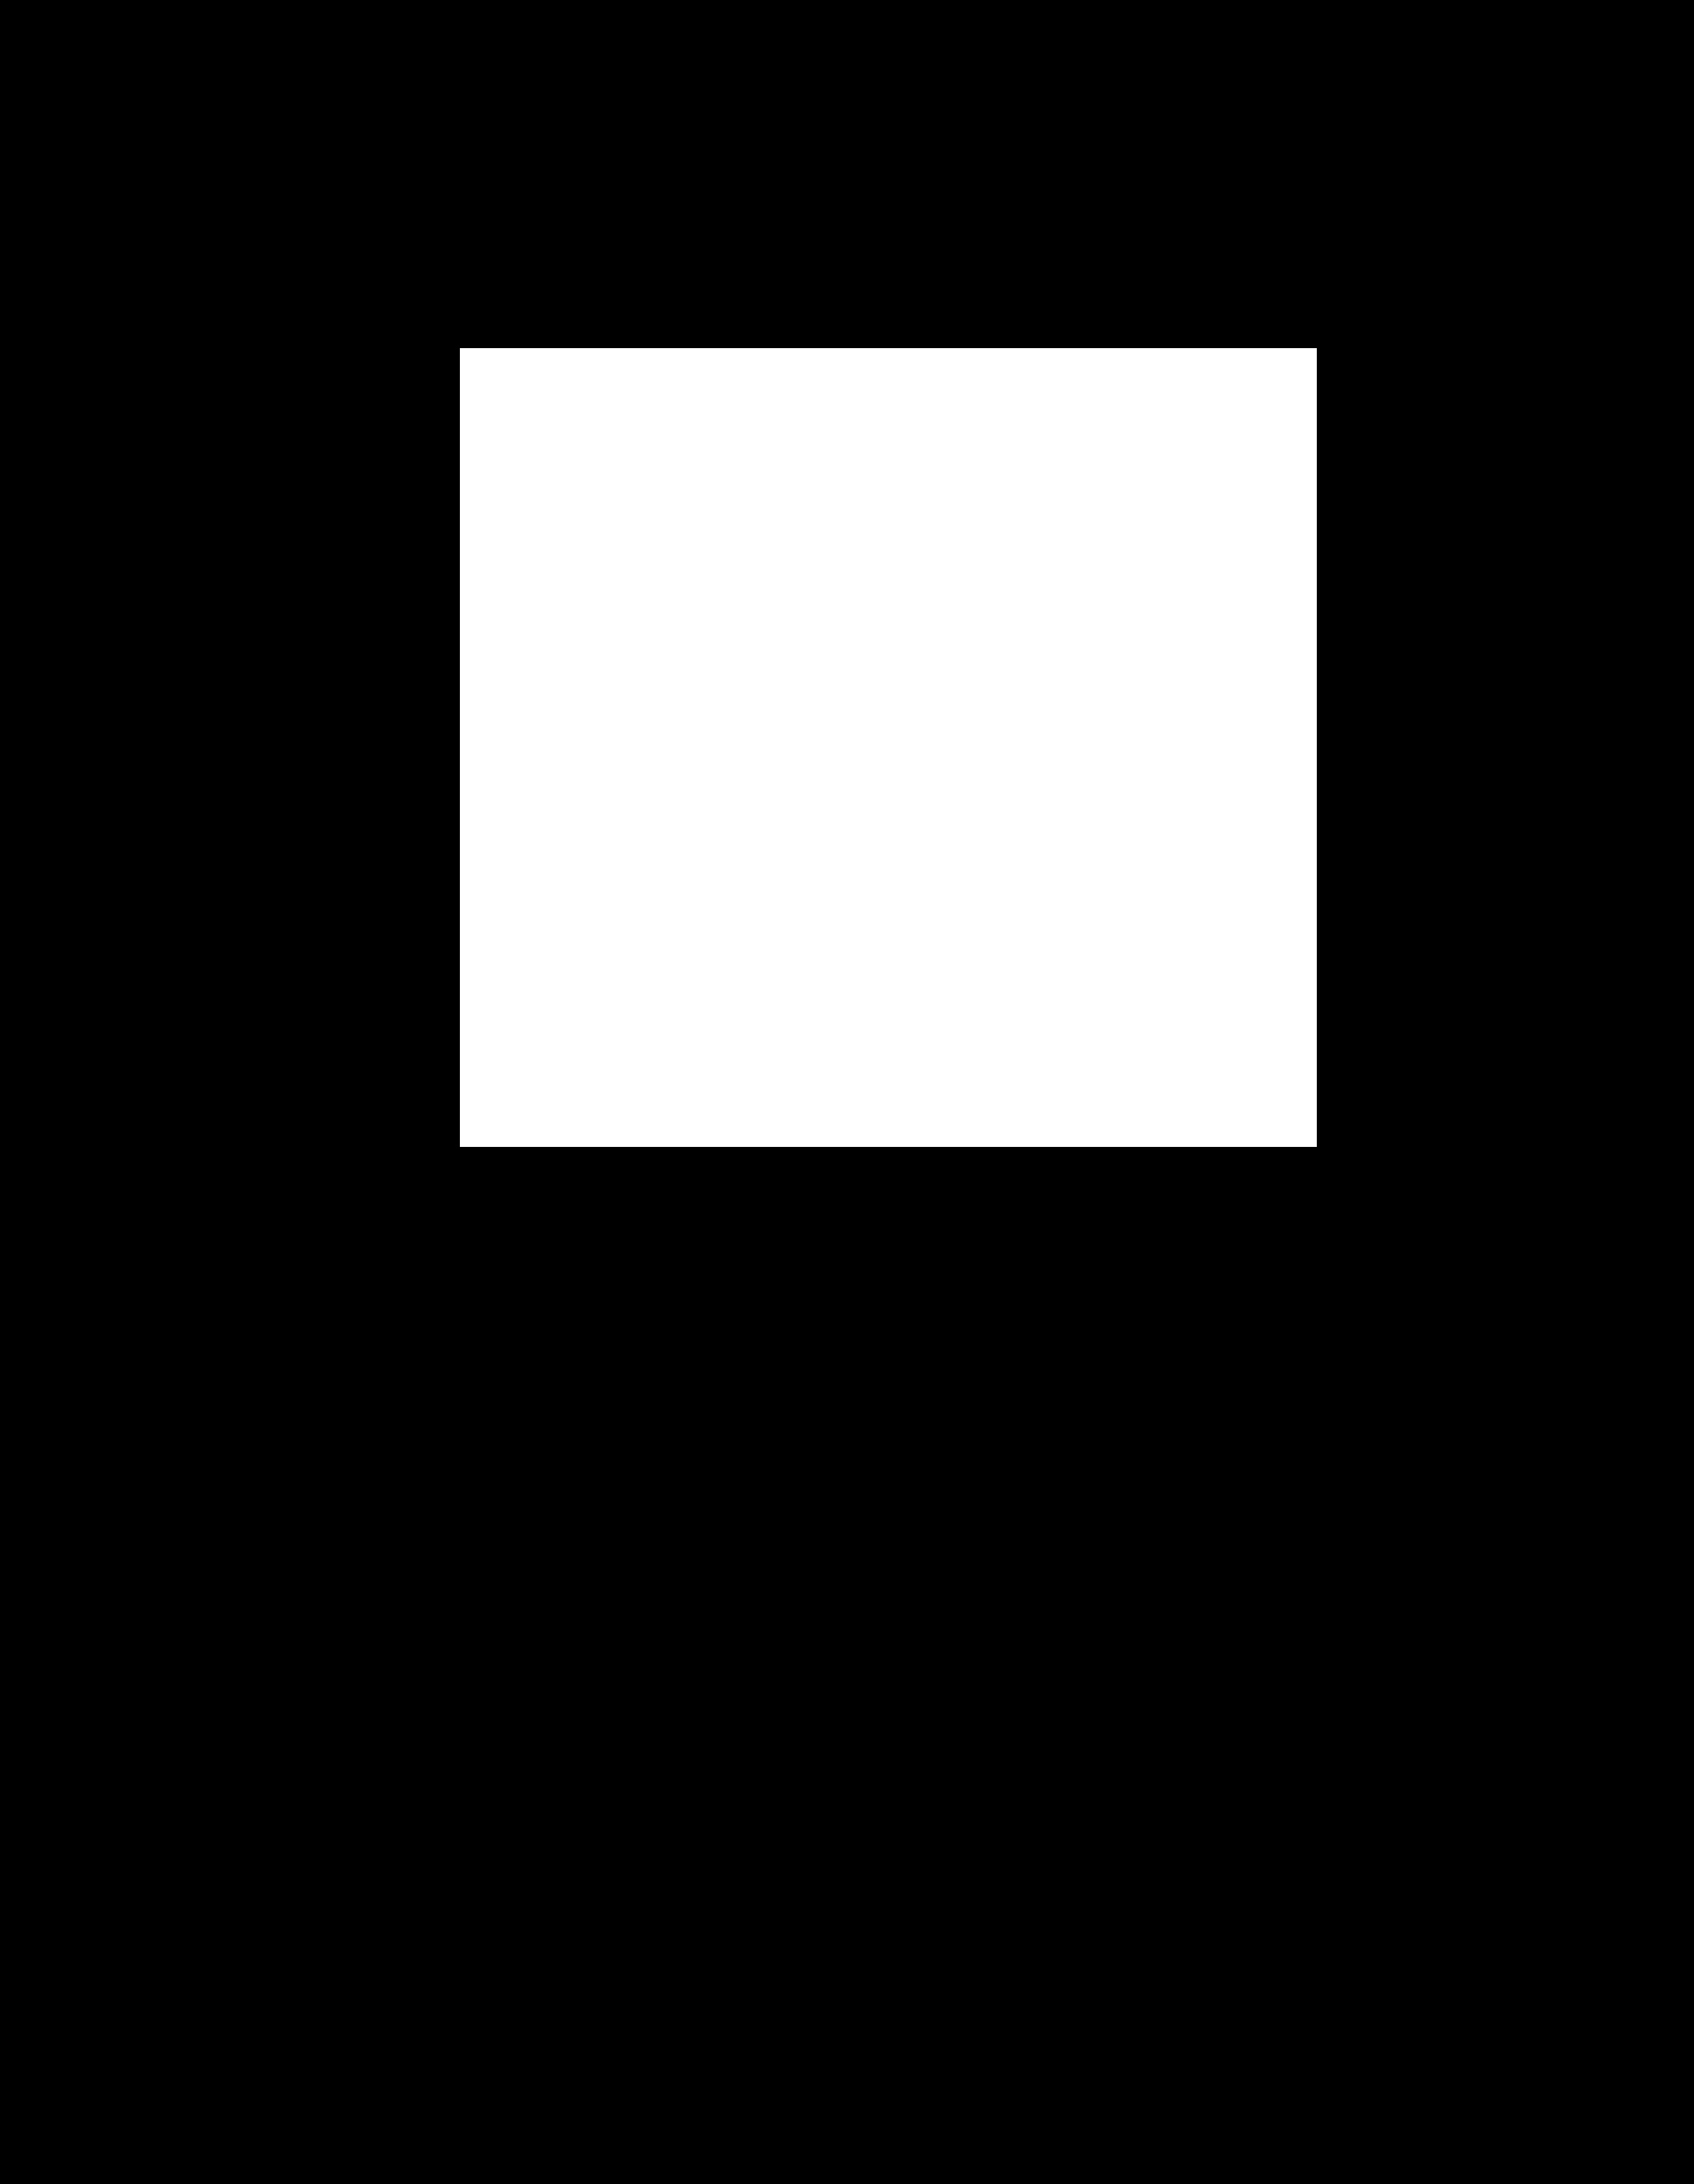table: (461, 347, 1317, 1147)
